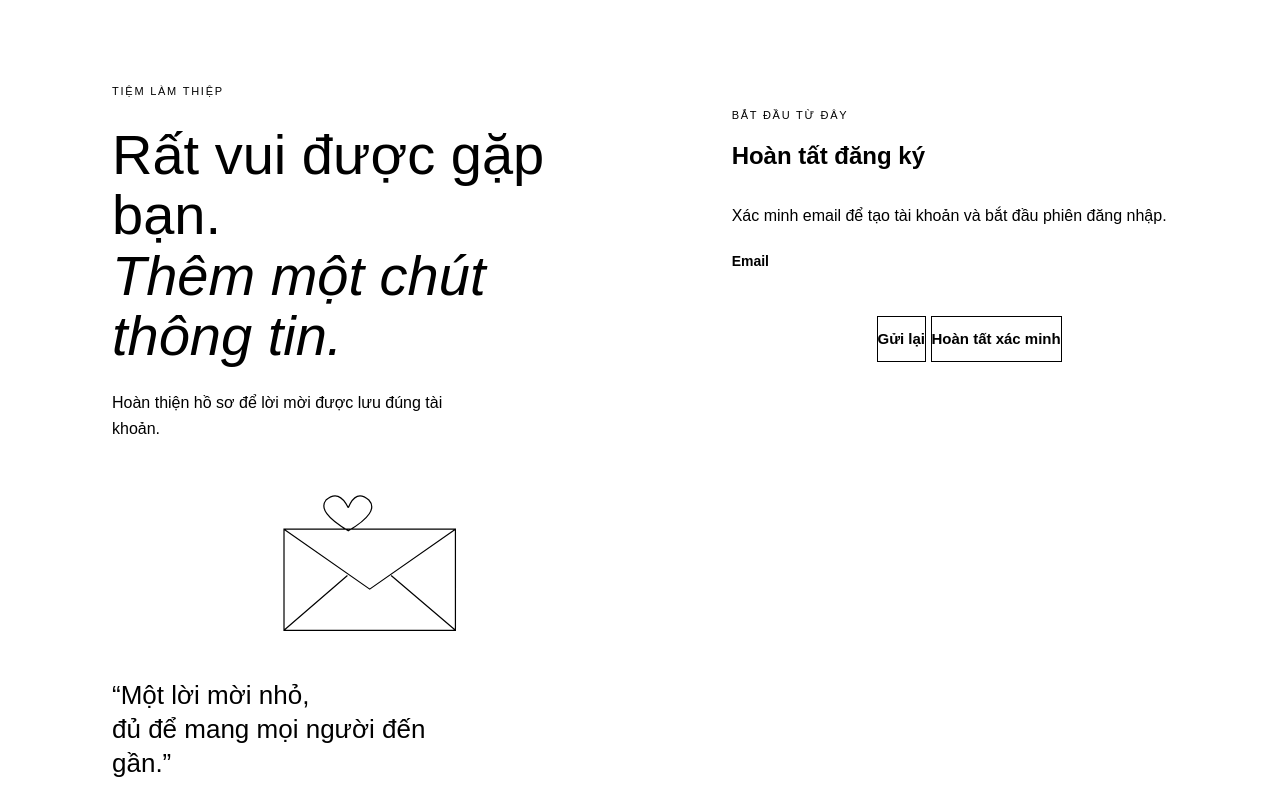
social onboarding UI › does not automatically retry a rejected old proof or binding
Click the button "Hoàn tất xác minh". click: (996,339)
box: [930,316,1062,362]
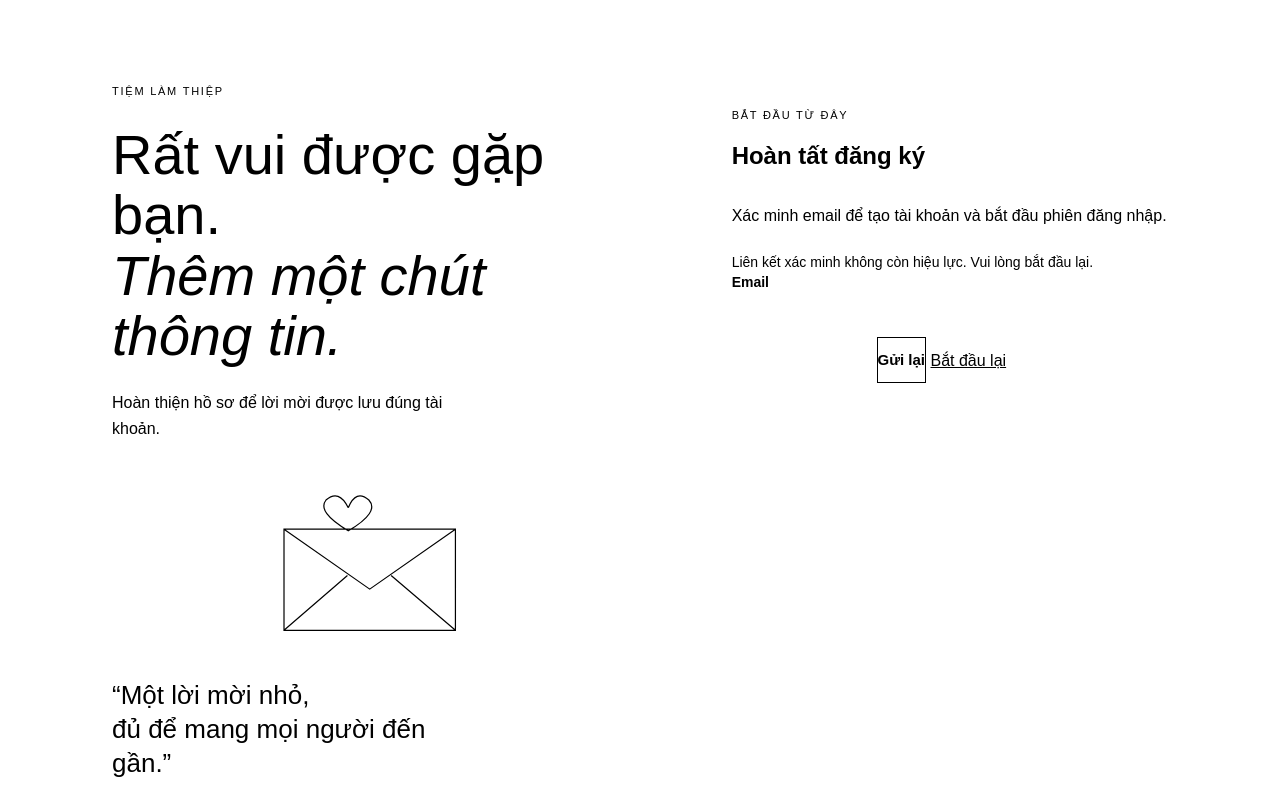
Expected: the message shows "không còn hiệu lực", [732,254,1093,270]
